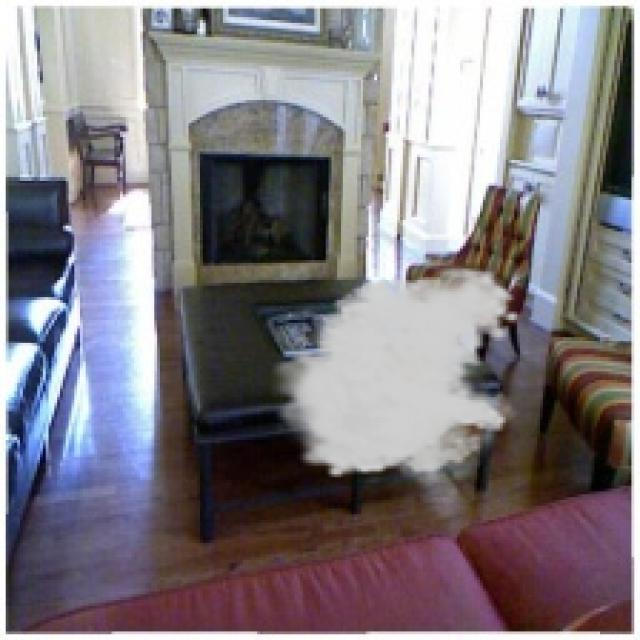Smoke: (266, 266, 523, 492)
